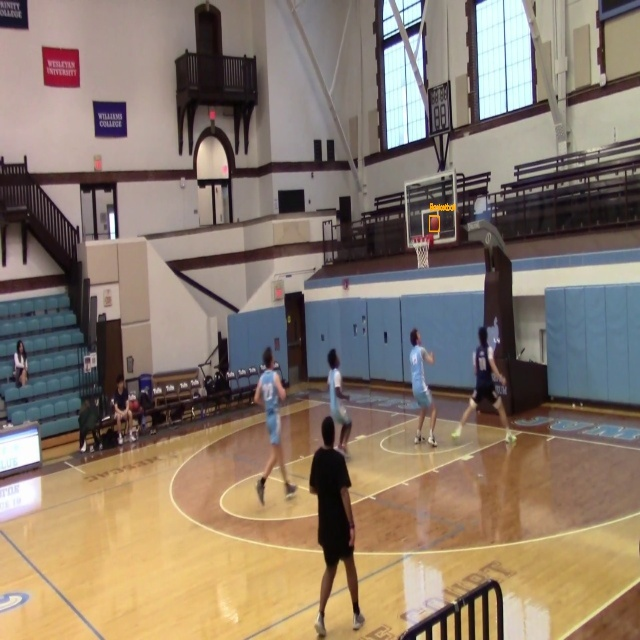Basketball: (430, 216, 439, 231)
